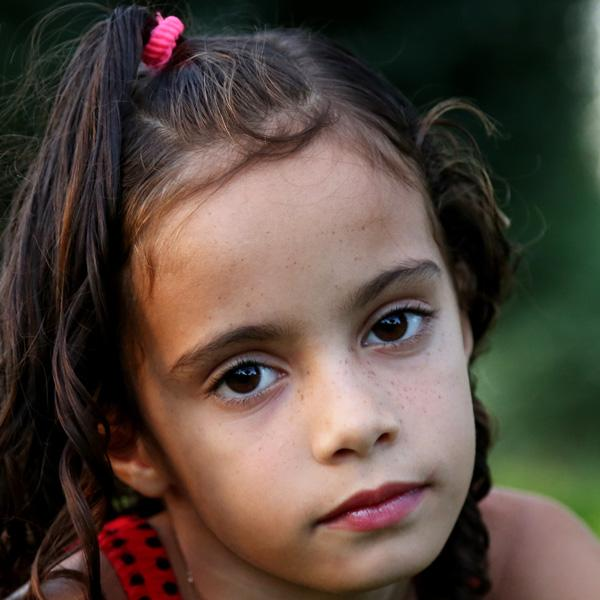Eyes: (194, 344, 299, 416), (353, 290, 442, 360)
